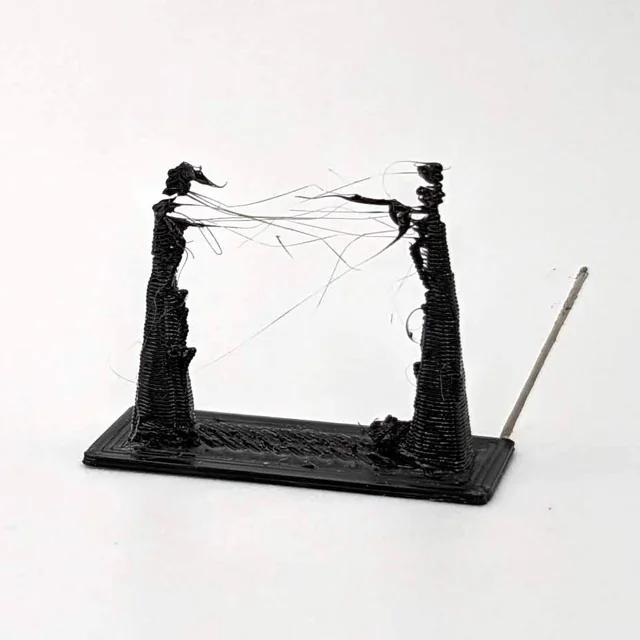stringing: (180, 184, 433, 250)
